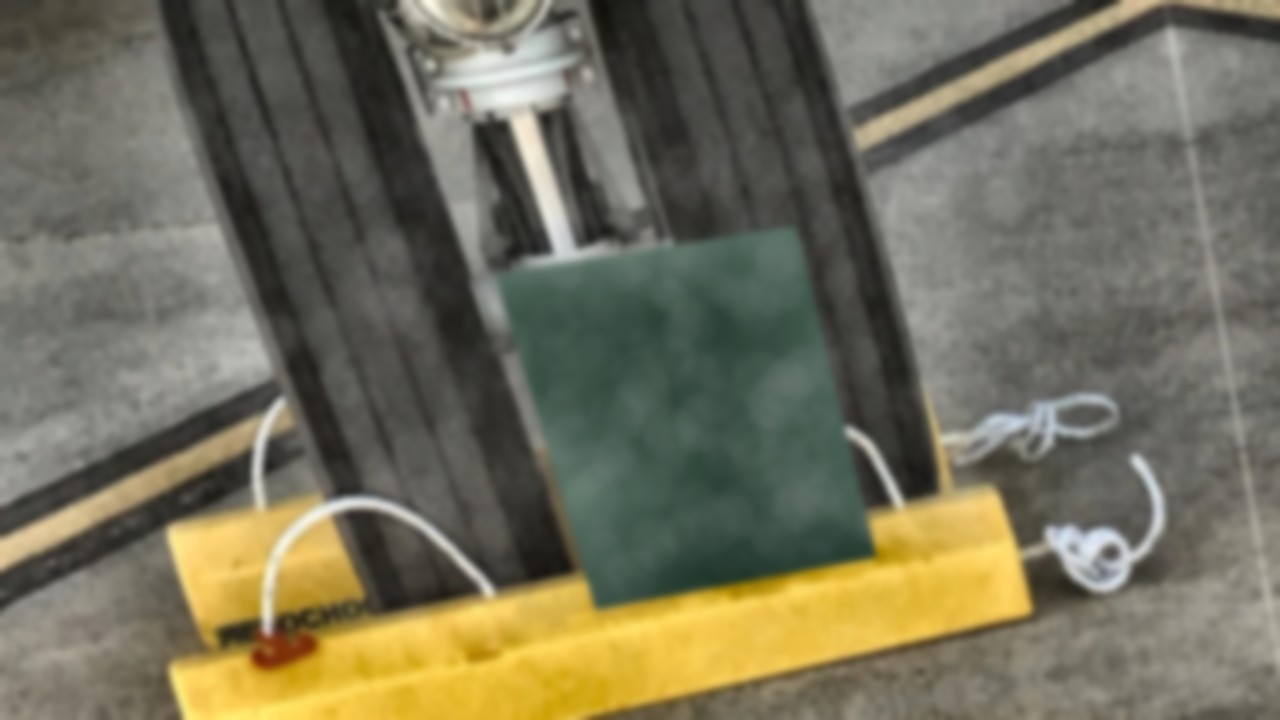chock: (130, 360, 963, 648), (129, 472, 1040, 720)
wheel: (126, 0, 573, 619), (561, 0, 945, 539)
